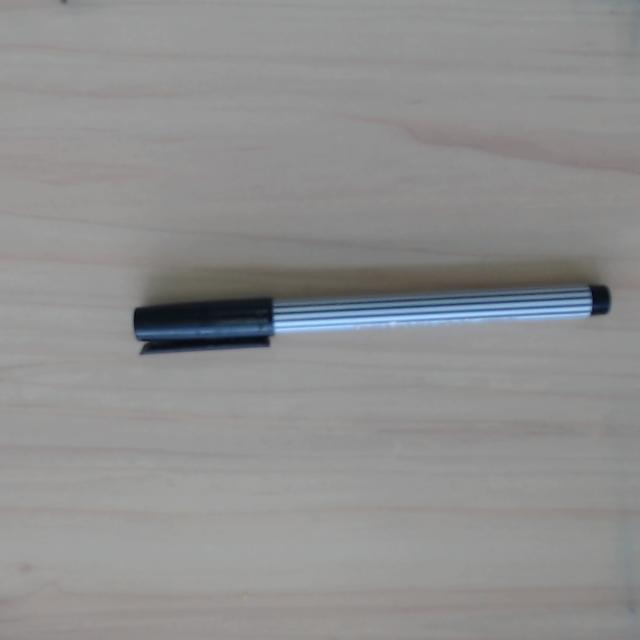Pulpen-Garis-Hitam: (132, 277, 613, 354)
